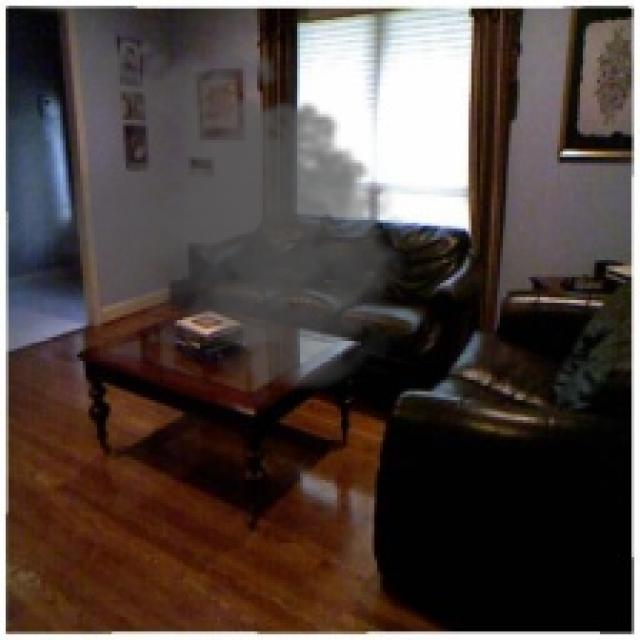smoke: (48, 29, 423, 397)
